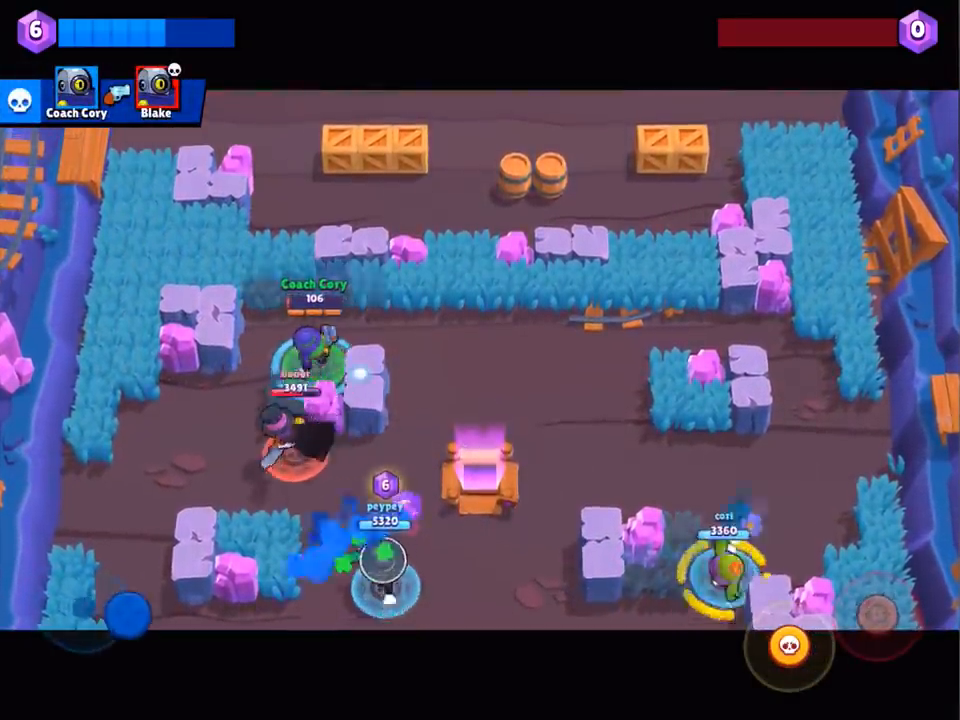move_stick: (106, 587, 155, 635)
red: (258, 393, 341, 477)
